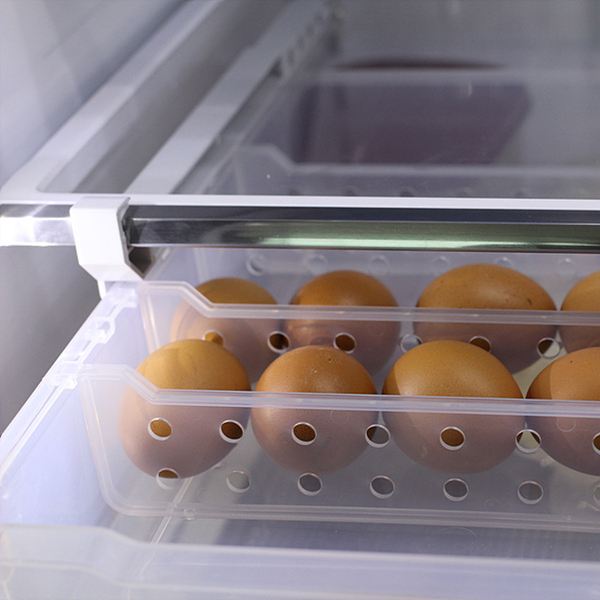egg: (115, 267, 600, 480)
